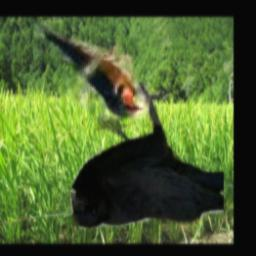Crow: (69, 83, 223, 229)
Swallow: (32, 23, 149, 121)
